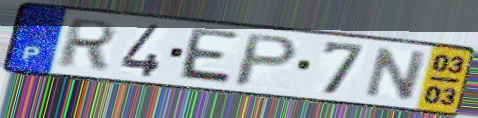4: (119, 22, 165, 79)
7: (318, 39, 371, 97)
E: (173, 25, 243, 88)
N: (360, 45, 432, 103)
P: (230, 32, 303, 89)
R: (52, 16, 121, 71)
